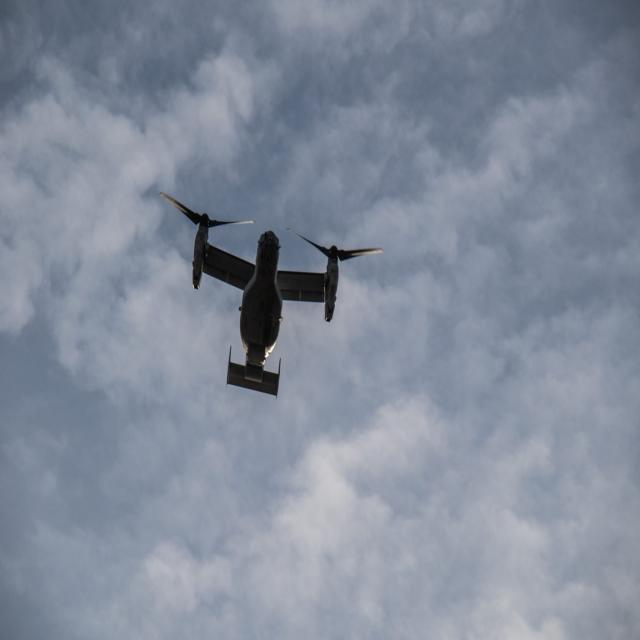drones: (153, 169, 390, 406)
